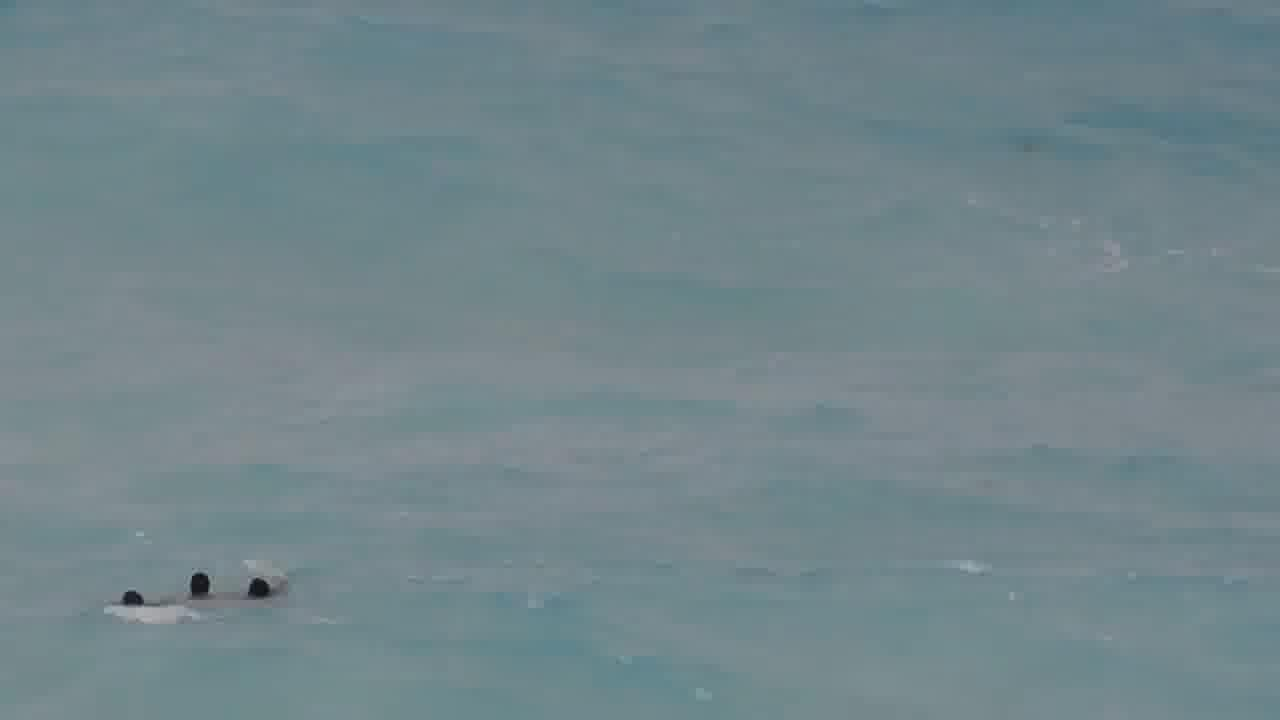swimmer: (103, 580, 179, 618), (168, 565, 231, 605), (239, 561, 287, 603)
